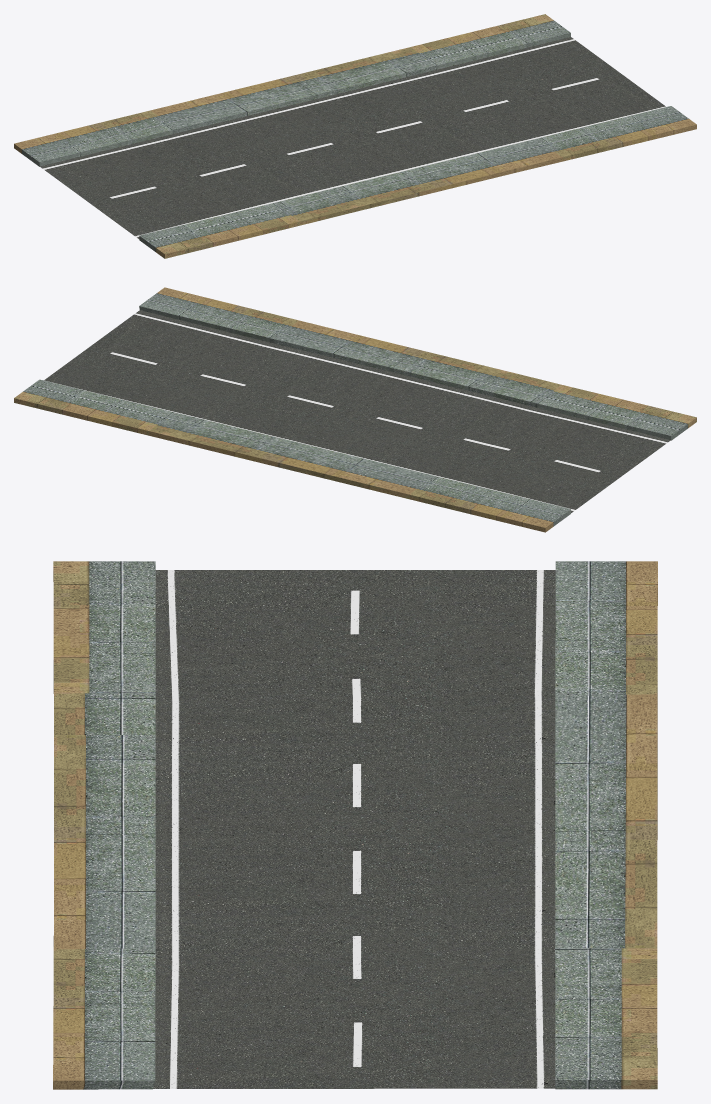
The model's file is road D.FBX.
The picture shows the model from 3 angles, top to bottom: view 1: azimuth 30°, elevation 25°; view 2: azimuth 150°, elevation 25°; view 3: azimuth 270°, elevation 25°; orthographic projection. The views are drawn at different scales.
Visible parts, largest first — view 1: Box002; view 2: Box002; view 3: Box002.
Part boxes in pixels (box(x1,y1,x2,y2)): Box002: box(14, 14, 696, 258); Box002: box(14, 287, 696, 532); Box002: box(53, 561, 657, 1089).
Size of the model in its own units: 300 by 2.5 by 148.
